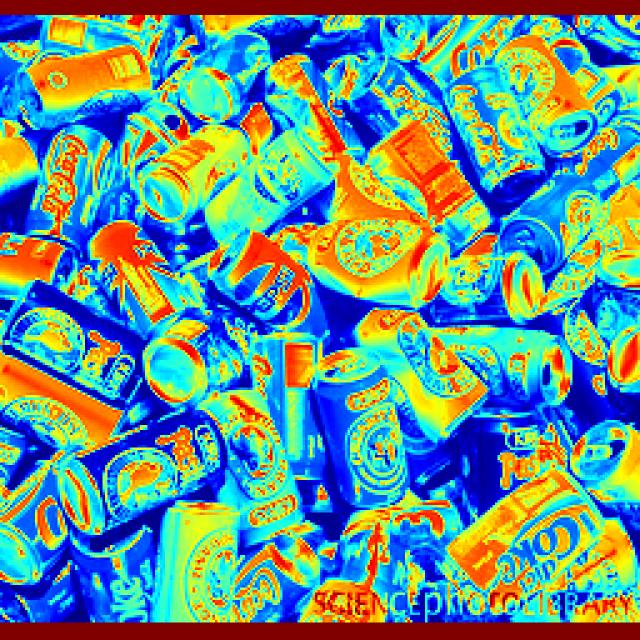Aluminium Food Cans: (29, 272, 148, 419), (270, 62, 382, 187), (502, 156, 602, 288), (358, 100, 462, 222), (332, 350, 407, 501), (433, 75, 534, 187), (203, 393, 288, 526), (30, 127, 142, 226), (357, 307, 453, 421), (153, 489, 230, 629), (71, 428, 217, 498), (219, 218, 310, 325), (311, 206, 422, 292), (494, 480, 576, 594), (194, 39, 303, 115), (462, 327, 558, 410), (147, 296, 225, 396), (155, 119, 241, 207), (24, 46, 124, 110), (114, 241, 195, 320), (514, 43, 586, 130), (569, 415, 640, 502), (584, 296, 640, 382), (387, 27, 476, 73), (598, 206, 640, 286), (20, 234, 73, 288)
